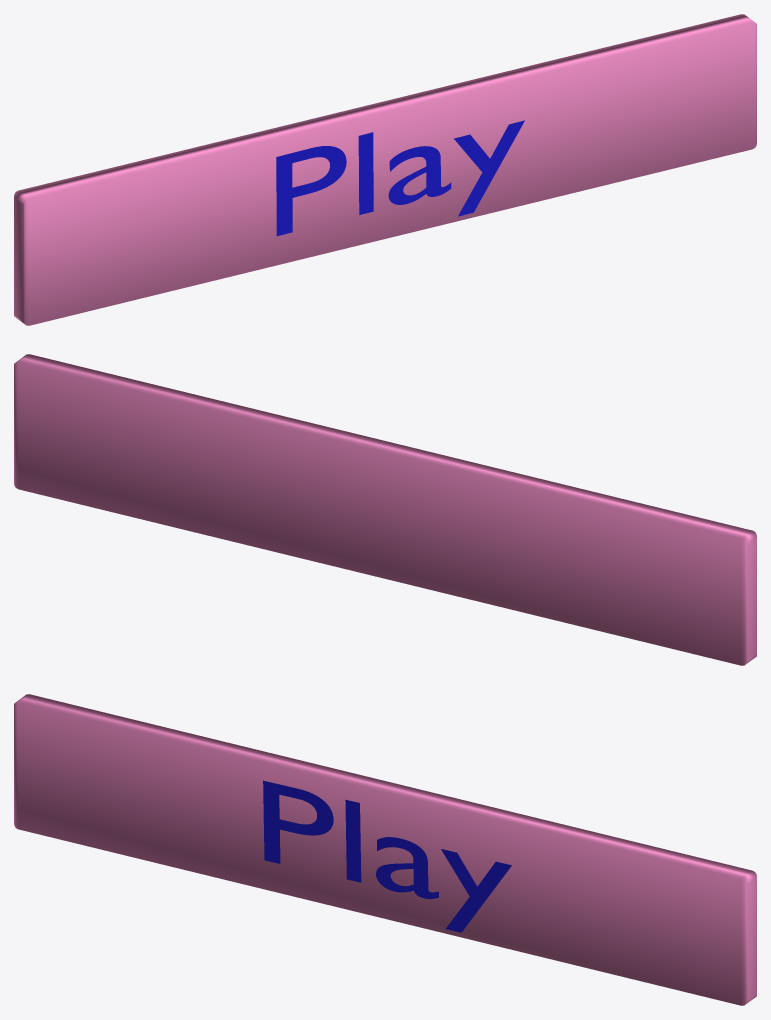
Rendered from boton Play.fbx.
The picture shows the model from 3 angles, top to bottom: view 1: azimuth 30°, elevation 25°; view 2: azimuth 150°, elevation 25°; view 3: azimuth 330°, elevation 25°; orthographic projection.
Visible parts, largest first — view 1: Cube, Texto; view 2: Cube; view 3: Cube, Texto.
Boxes of the visible parts, x1,y1,x2,y2 form: Cube: (14,14,756,325); Texto: (276,120,524,236); Cube: (14,354,756,665); Cube: (14,694,756,1005); Texto: (263,780,511,932).
Size of the model in its own units: 105 by 17.4 by 3.04.
